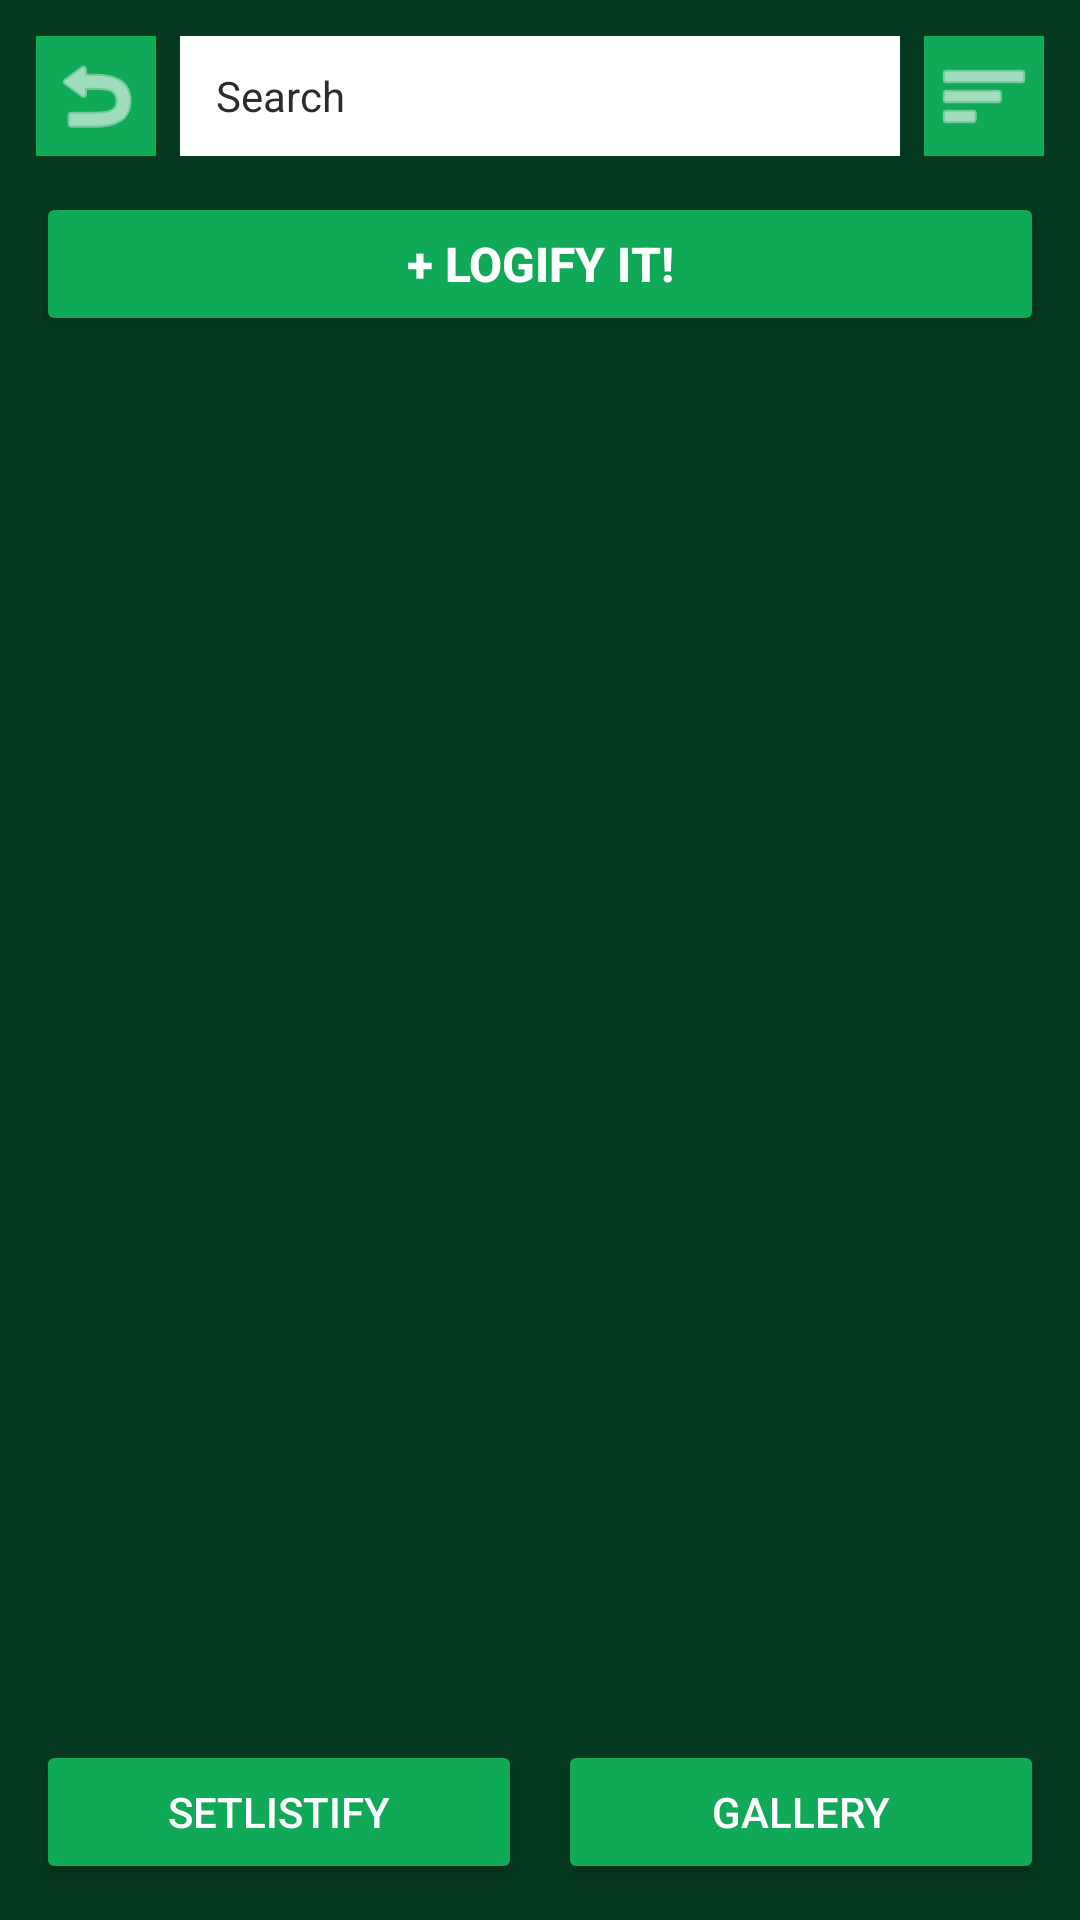

Point at icon controls on the screen. Image size 1080*1920, points as [x,y].
Filter: [984,96]
